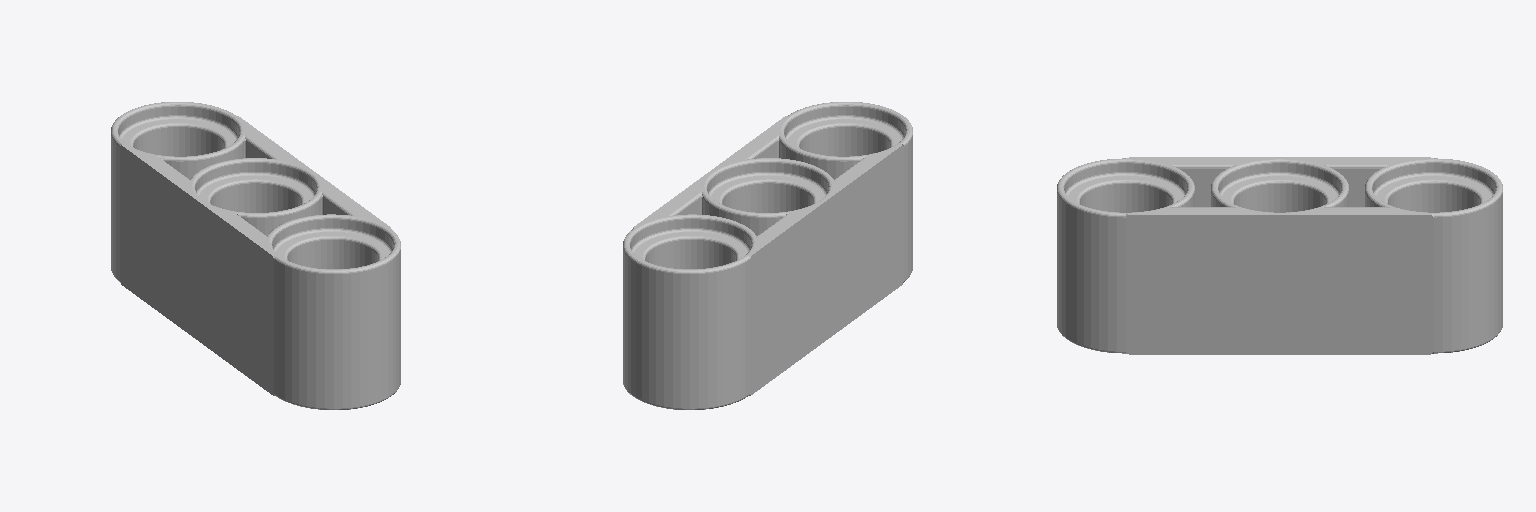
The model's file is b3.ldr.obj.
The picture shows the model from 3 angles: view 1: azimuth 30°, elevation 25°; view 2: azimuth 150°, elevation 25°; view 3: azimuth 270°, elevation 25°; orthographic projection.
Visible parts, largest first — view 1: 00001_32523.dat_Mesh_32523.dat_15; view 2: 00001_32523.dat_Mesh_32523.dat_15; view 3: 00001_32523.dat_Mesh_32523.dat_15.
Boxes of the visible parts, <box> form: 00001_32523.dat_Mesh_32523.dat_15: <box>111,102,400,409</box>; 00001_32523.dat_Mesh_32523.dat_15: <box>623,102,912,409</box>; 00001_32523.dat_Mesh_32523.dat_15: <box>1057,157,1502,354</box>.
Bounding box in the file's own units: 0.175 × 0.1983 × 0.575.